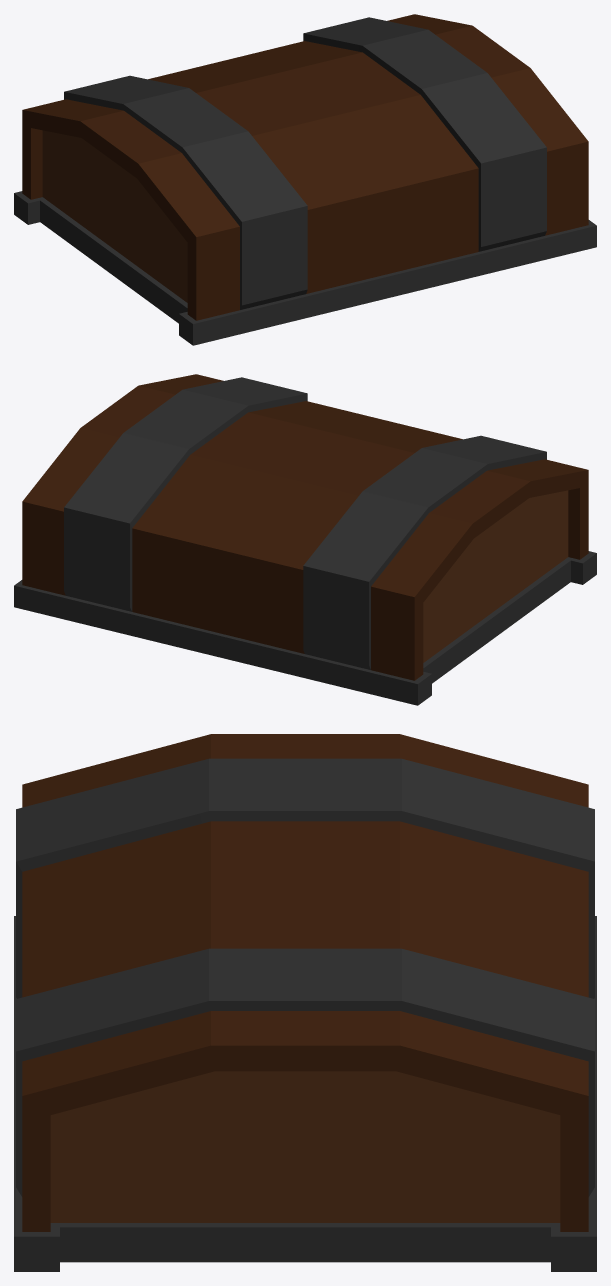
The model's file is bow_Up.fbx.
The picture shows the model from 3 angles, top to bottom: view 1: azimuth 30°, elevation 25°; view 2: azimuth 150°, elevation 25°; view 3: azimuth 270°, elevation 25°; orthographic projection. The views are drawn at different scales.
Visible parts, largest first — view 1: ChestTD; view 2: ChestTD; view 3: ChestTD.
Boxes of the visible parts, x1,y1,x2,y2 form: ChestTD: (14, 14, 596, 345); ChestTD: (14, 374, 596, 705); ChestTD: (14, 734, 596, 1271).
Size of the model in its own units: 69.71 by 23.49 by 53.56.
